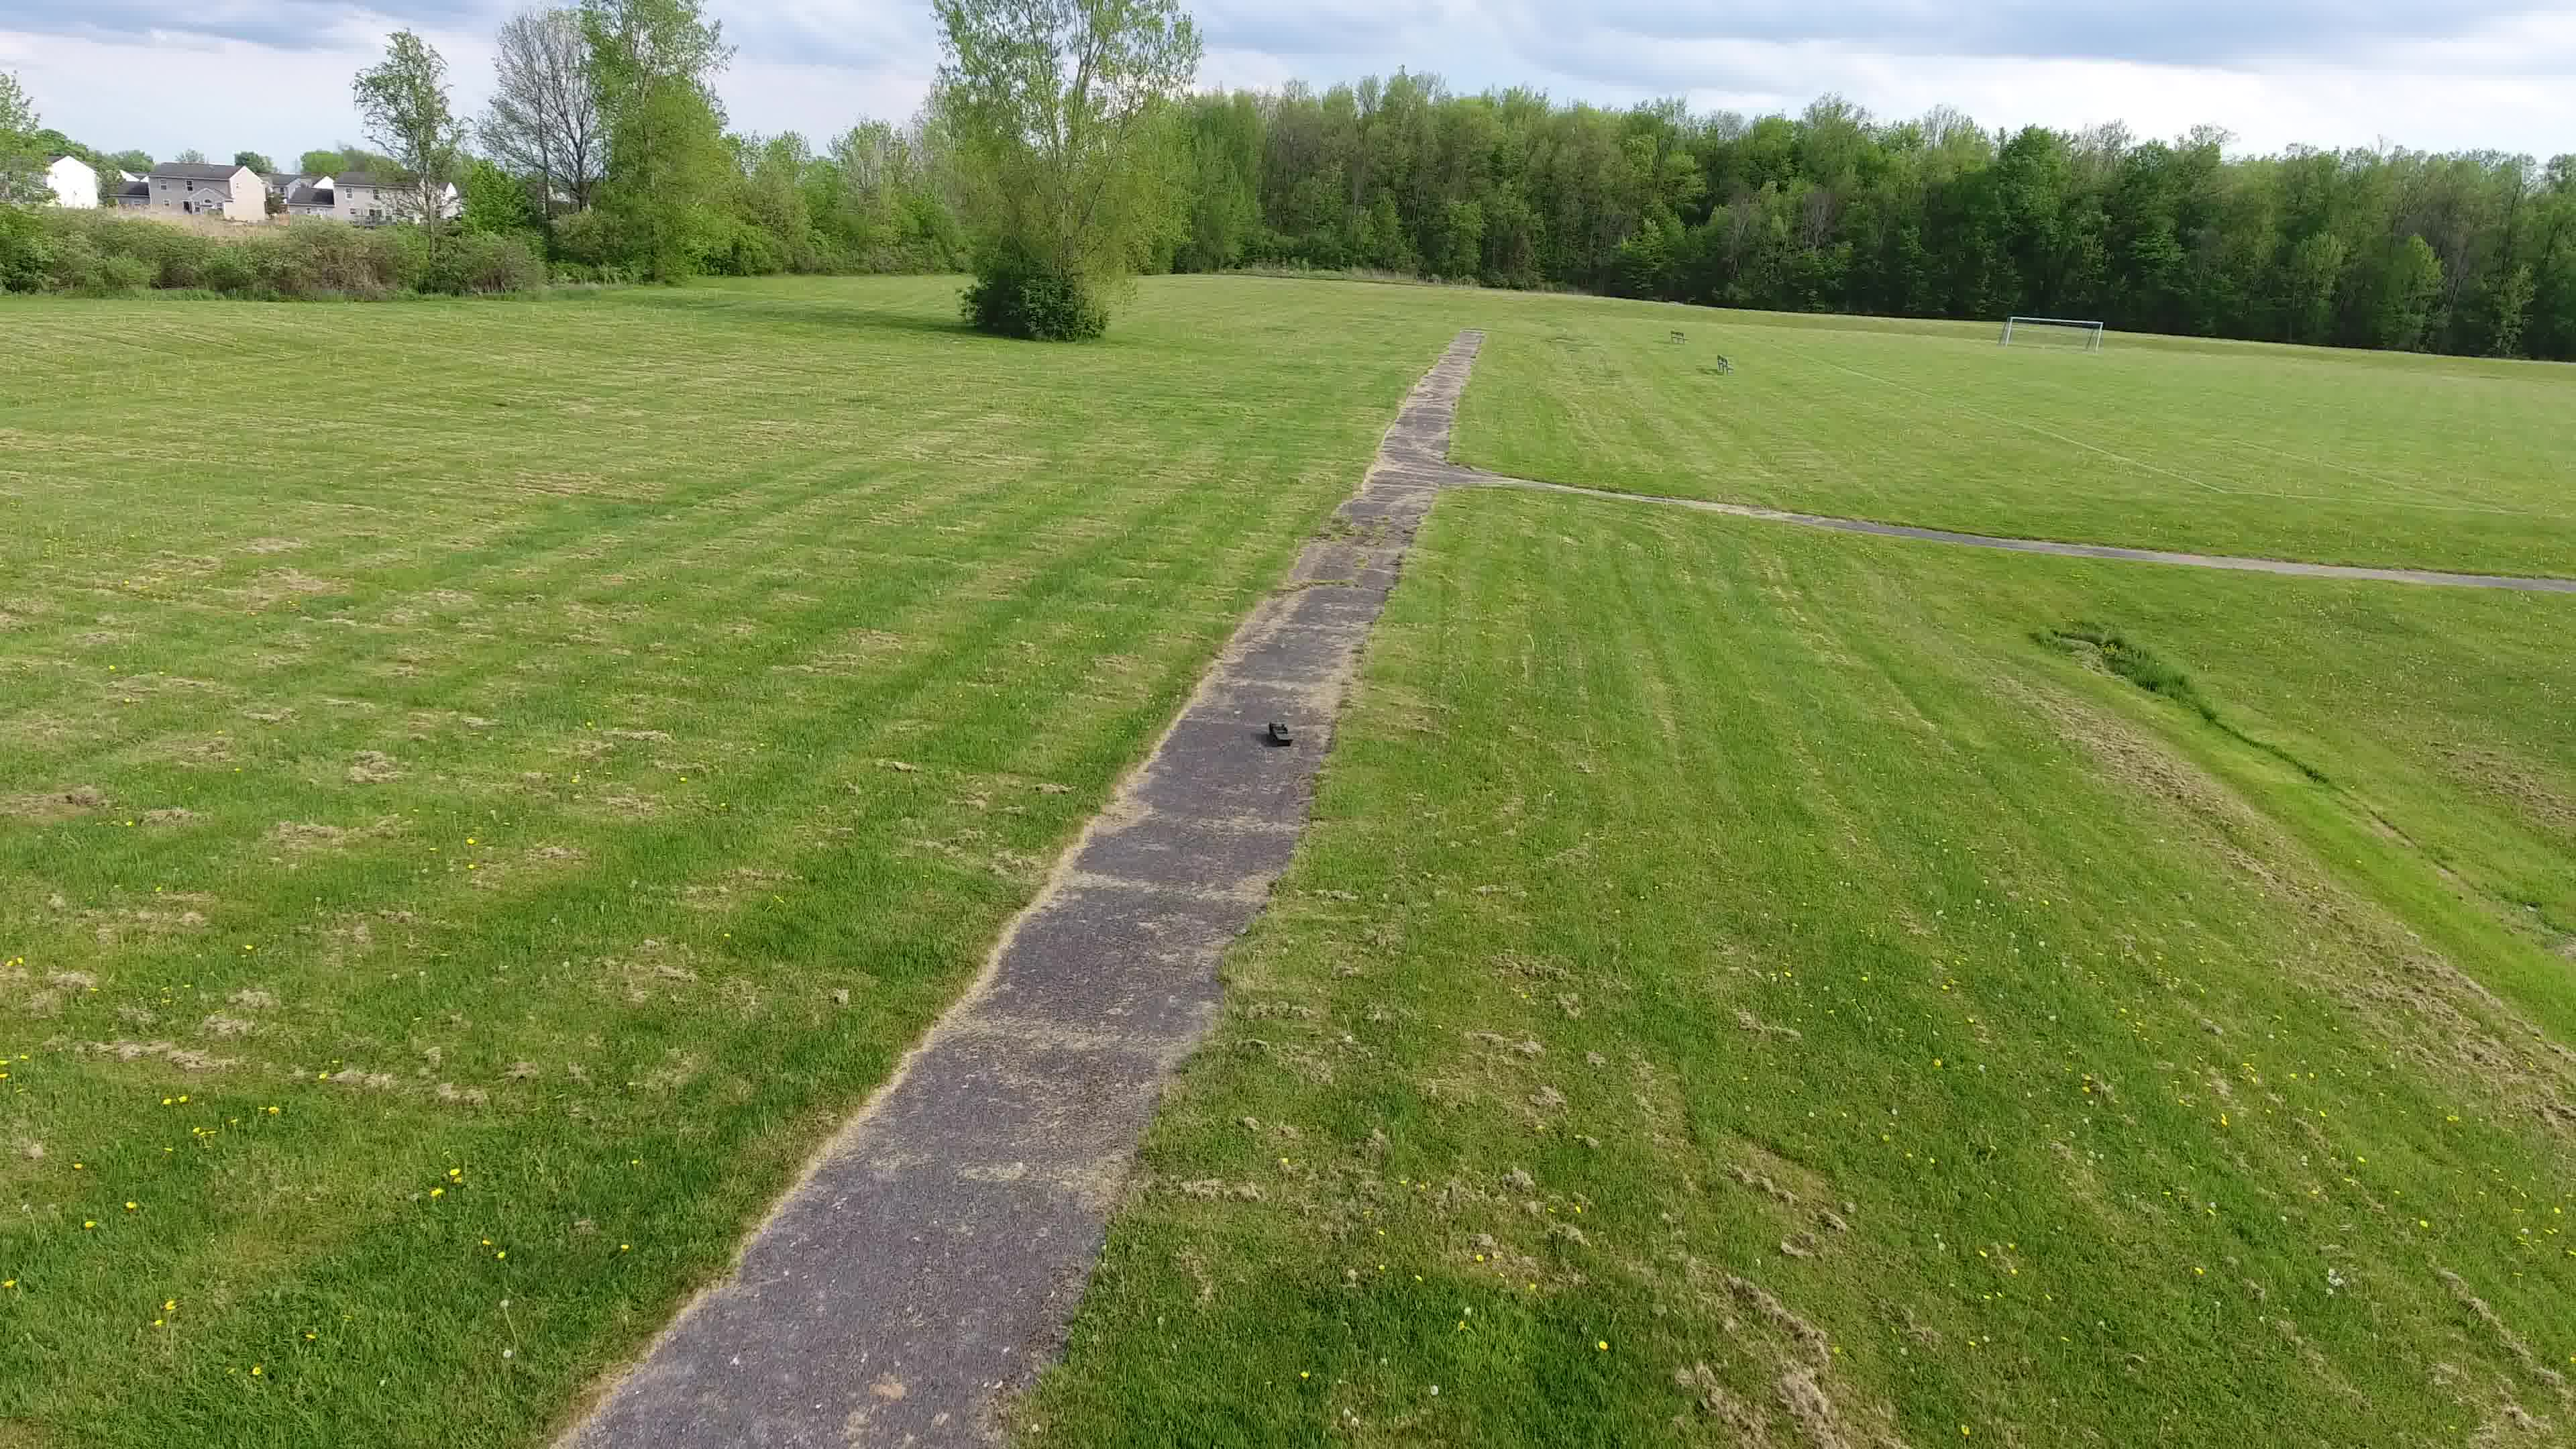transporter9_camo: (1267, 720, 1293, 747)
